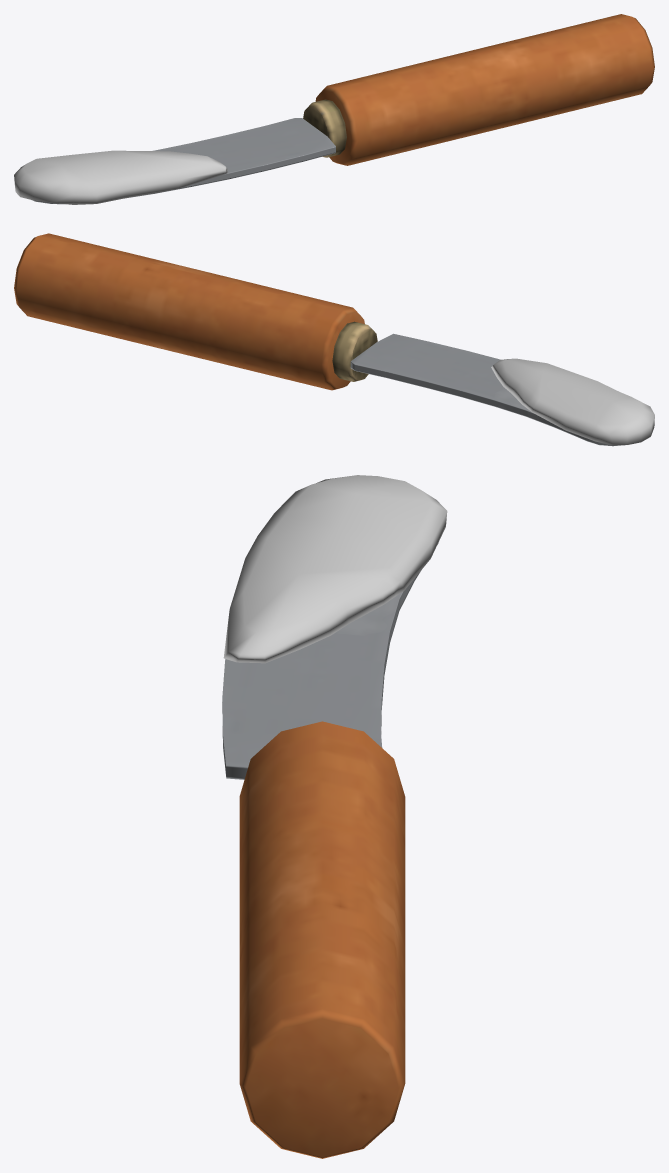
Rendered from pi_knife01_creamcheese.gltf.
3 renders of one model, top to bottom at view 1: azimuth 30°, elevation 25°; view 2: azimuth 150°, elevation 25°; view 3: azimuth 270°, elevation 25°, orthographic. The views are drawn at different scales.
Parts seen in each view (by area): view 1: um_pi_knife01_creamcheese_model_pi_knife01_creamcheese_model (×2); view 2: um_pi_knife01_creamcheese_model_pi_knife01_creamcheese_model (×2); view 3: um_pi_knife01_creamcheese_model_pi_knife01_creamcheese_model (×2).
Part boxes in pixels (x1,y1,x2,y2): um_pi_knife01_creamcheese_model_pi_knife01_creamcheese_model (×2): [14, 14, 654, 204]; um_pi_knife01_creamcheese_model_pi_knife01_creamcheese_model (×2): [14, 233, 654, 446]; um_pi_knife01_creamcheese_model_pi_knife01_creamcheese_model (×2): [222, 475, 447, 1158].
Size of the model in its own units: 0.1991 by 0.0235 by 0.0321.
3 materials, 3 textured.
